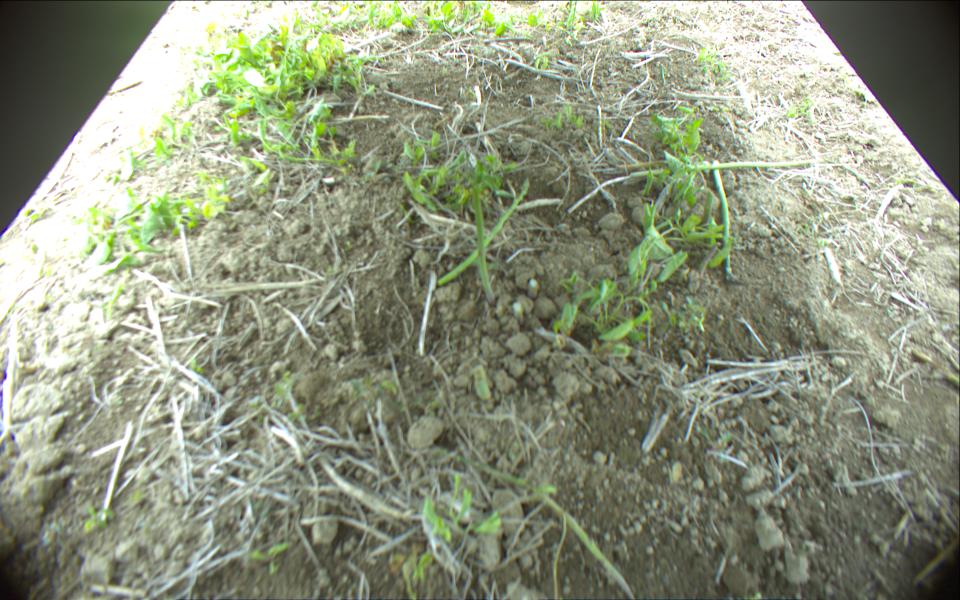aspa: (441, 452, 634, 600), (438, 180, 529, 289), (625, 158, 813, 179), (473, 171, 497, 297), (713, 158, 736, 279)
